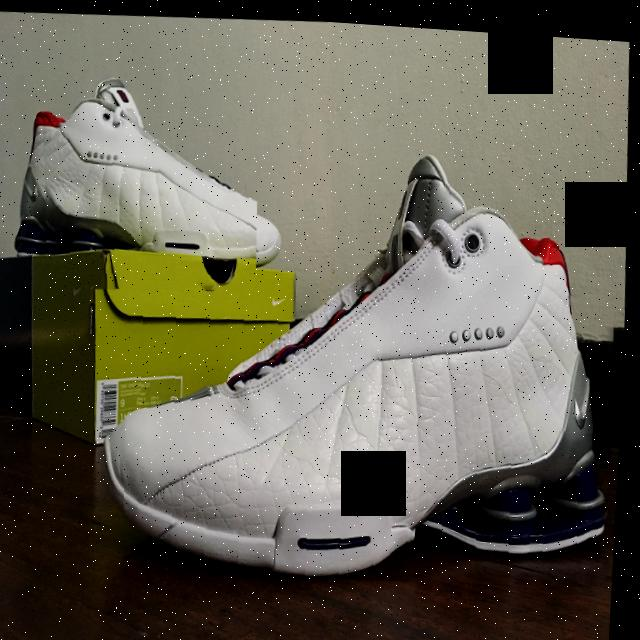shoe: (111, 47, 637, 596), (28, 4, 269, 299)
